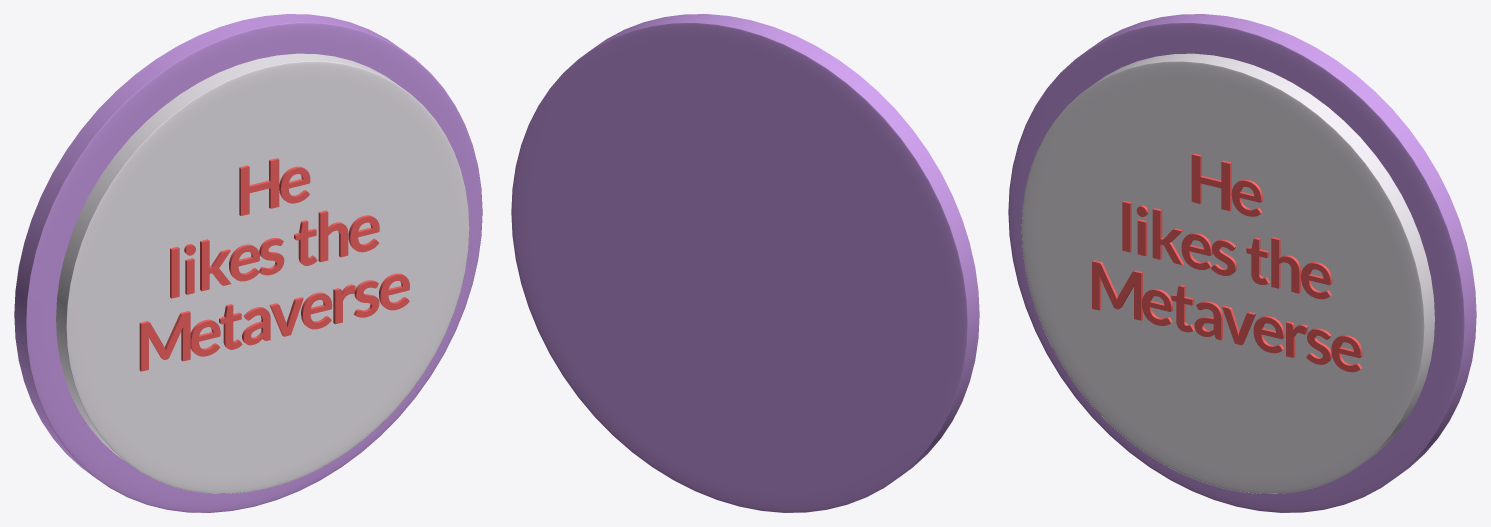
File: explainer-poc-pop-up-2.glb
3 renders of one model, left to right at view 1: azimuth 30°, elevation 25°; view 2: azimuth 150°, elevation 25°; view 3: azimuth 330°, elevation 25°, orthographic.
Parts seen in each view (by area): view 1: Cylinder 2, Cylinder 1, 3D Text 1 - e (×6), 3D Text 1 - M, 3D Text 1 - H, 3D Text 1 - t (×2), 3D Text 1 - s (×2), 3D Text 1 - h, 3D Text 1 - k, 3D Text 1 - a, 3D Text 1 - v; view 2: Cylinder 1; view 3: Cylinder 2, Cylinder 1, 3D Text 1 - e (×6), 3D Text 1 - M, 3D Text 1 - s (×2), 3D Text 1 - H, 3D Text 1 - t (×2), 3D Text 1 - k, 3D Text 1 - h, 3D Text 1 - a, 3D Text 1 - v.
Part boxes in pixels (box(x1,y1,x2,y2)): Cylinder 2: box(56, 53, 469, 493); Cylinder 1: box(14, 14, 482, 512); 3D Text 1 - e (×6): box(190, 166, 409, 356); 3D Text 1 - M: box(139, 311, 190, 371); 3D Text 1 - H: box(239, 158, 279, 215); 3D Text 1 - t (×2): box(219, 220, 317, 349); 3D Text 1 - s (×2): box(259, 238, 379, 317); 3D Text 1 - h: box(318, 210, 348, 262); 3D Text 1 - k: box(200, 239, 231, 291); 3D Text 1 - a: box(242, 307, 270, 345); 3D Text 1 - v: box(269, 297, 303, 336); Cylinder 1: box(511, 14, 979, 512); Cylinder 2: box(1021, 53, 1434, 493); Cylinder 1: box(1008, 14, 1476, 512); 3D Text 1 - e (×6): box(1142, 179, 1362, 372); 3D Text 1 - M: box(1092, 260, 1142, 320); 3D Text 1 - s (×2): box(1211, 239, 1331, 364); 3D Text 1 - H: box(1191, 153, 1231, 211); 3D Text 1 - t (×2): box(1171, 237, 1269, 332); 3D Text 1 - k: box(1152, 208, 1183, 264); 3D Text 1 - h: box(1271, 237, 1300, 293); 3D Text 1 - a: box(1194, 301, 1222, 340); 3D Text 1 - v: box(1222, 305, 1256, 345).
Bounding box in the file's own units: 0.0435 × 0.0435 × 0.00462.
